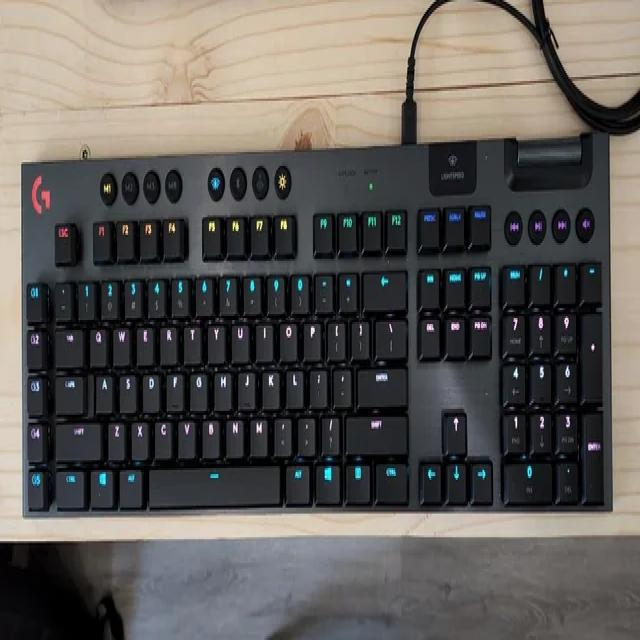clavier: (11, 122, 618, 534)
